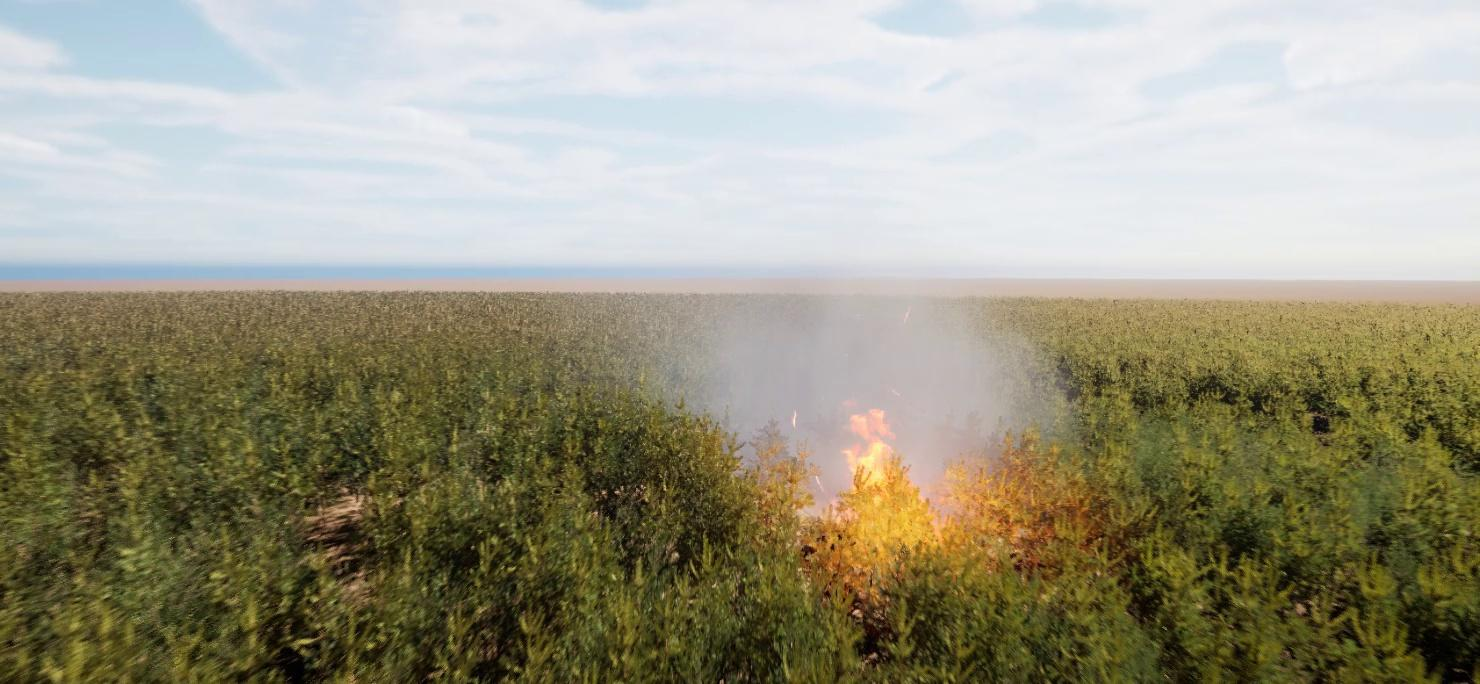fire: (828, 400, 959, 538)
smoke: (627, 211, 1094, 540)
